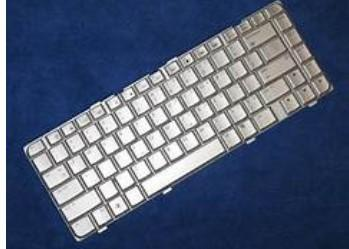Keyboard: (22, 1, 333, 242)
